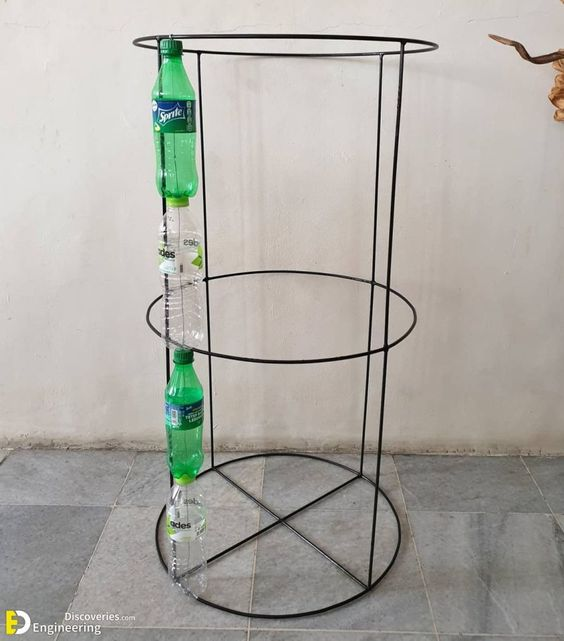Metal: (156, 38, 184, 60), (164, 195, 192, 212), (174, 475, 198, 488), (174, 352, 196, 364)
paper: (148, 56, 205, 196), (159, 215, 209, 352), (167, 488, 209, 604), (163, 367, 203, 479)
